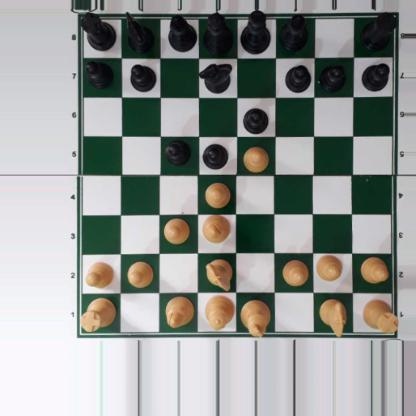black-bishop: (278, 11, 308, 52), (168, 14, 197, 51)
black-king: (240, 9, 270, 57)
black-knight: (125, 10, 154, 53), (201, 62, 231, 93)
black-pawn: (361, 62, 389, 91), (242, 105, 270, 134), (86, 60, 113, 89), (129, 62, 155, 91), (320, 63, 346, 91), (285, 65, 311, 92), (164, 139, 191, 165), (202, 143, 228, 168)
black-queen: (203, 12, 234, 53)
black-rook: (79, 11, 116, 49), (359, 13, 394, 50)
white-bishop: (164, 295, 193, 329), (202, 214, 230, 243)
white-king: (240, 297, 270, 337)
white-knight: (320, 297, 347, 337), (206, 257, 233, 291)
white-pawn: (83, 261, 115, 288), (360, 256, 389, 284), (126, 261, 154, 288), (242, 145, 270, 172), (316, 254, 342, 282), (281, 259, 308, 285), (204, 182, 230, 209), (163, 217, 189, 244)
white-queen: (204, 294, 234, 331)
white-rook: (362, 298, 399, 333), (79, 297, 116, 331)
